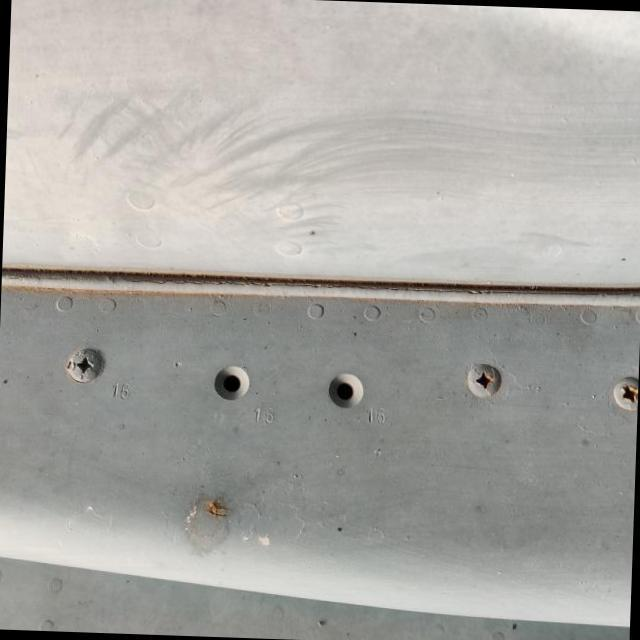Fastener Damage: (306, 347, 388, 440), (190, 346, 274, 428)
